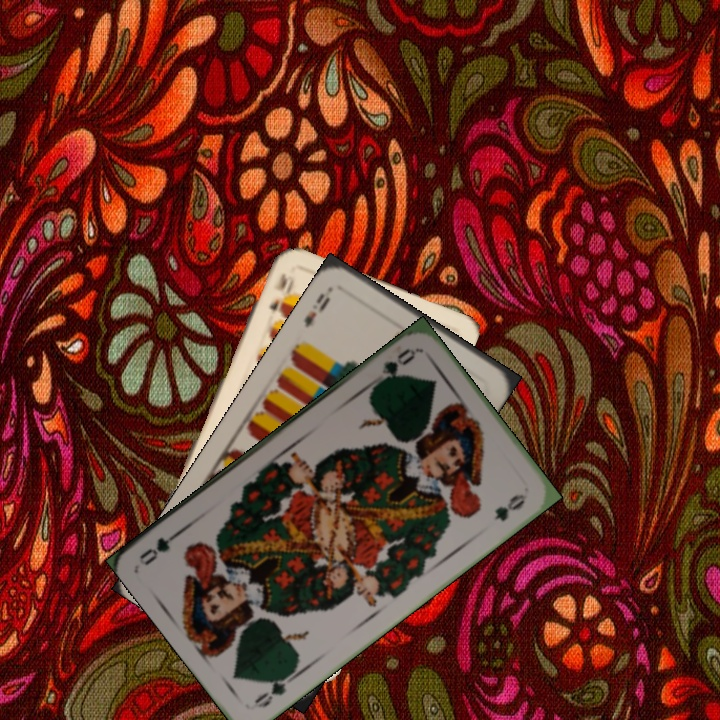E10: (265, 268, 290, 314)
E9: (299, 283, 335, 330)
GO: (370, 344, 419, 390), (250, 668, 300, 711)
